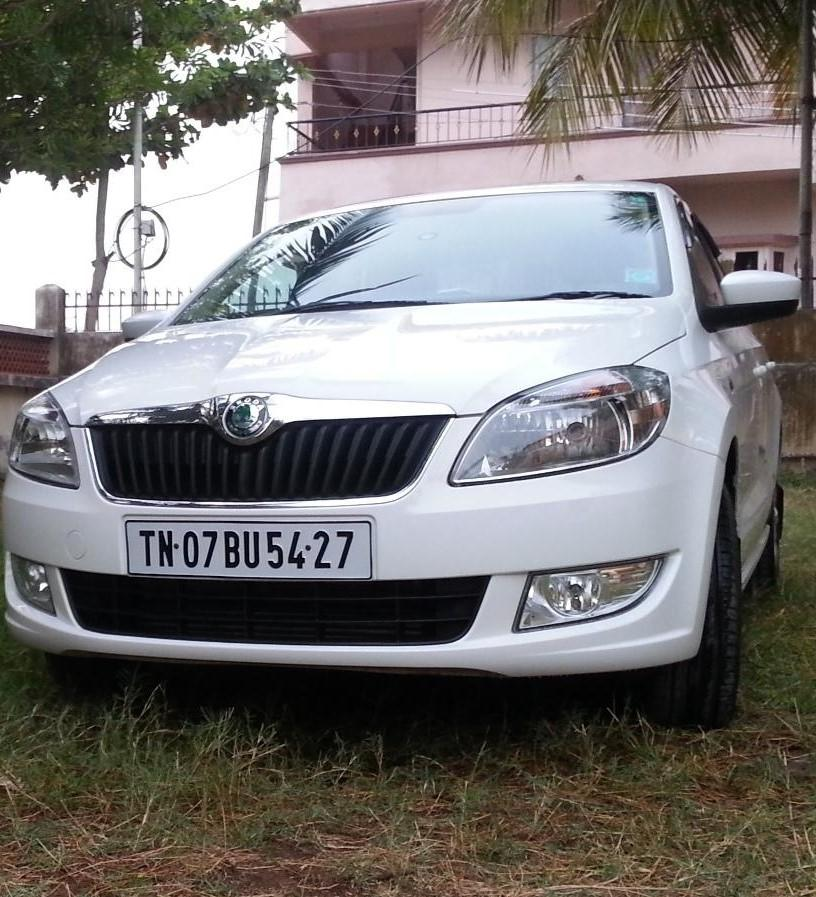License-Plate: (117, 499, 379, 604)
